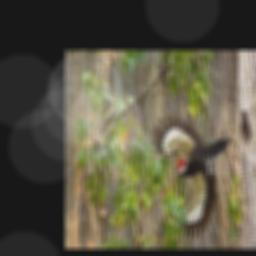Woodpecker: (148, 112, 232, 237)
